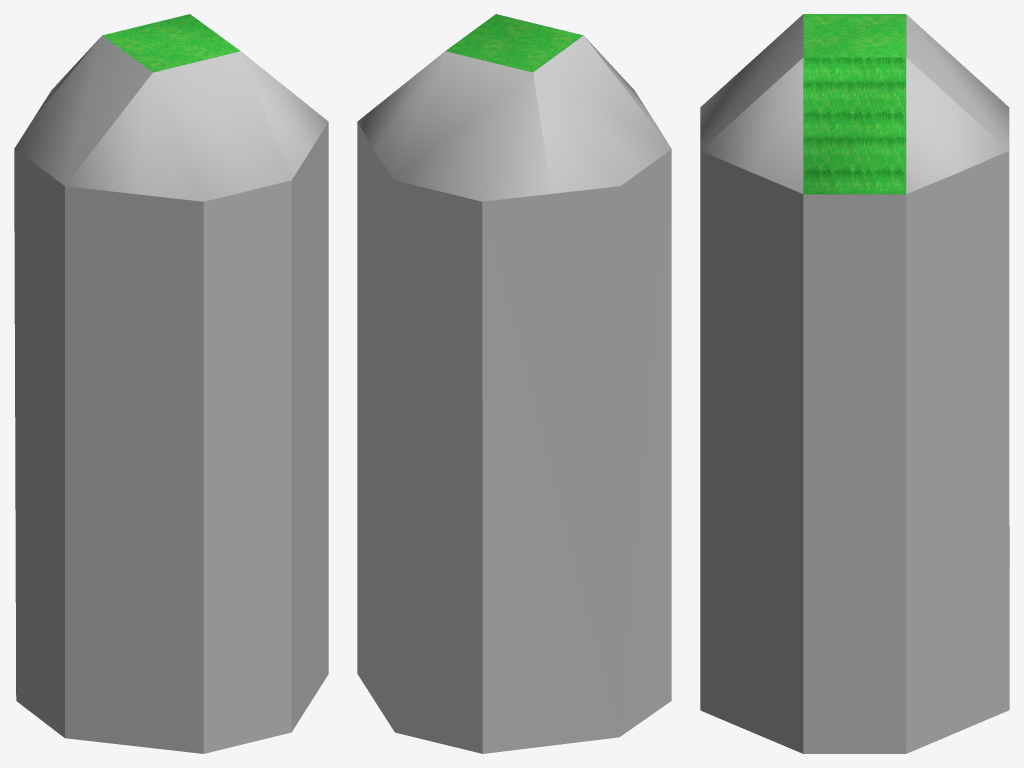
Rendered from allTerrain.dae.
3 renders of one model, left to right at view 1: azimuth 30°, elevation 25°; view 2: azimuth 150°, elevation 25°; view 3: azimuth 270°, elevation 25°, orthographic.
Parts seen in each view (by area): view 1: Cube.009; view 2: Cube.009; view 3: Cube.009.
Part boxes in pixels (left/top/right/bottom): Cube.009: left=14, top=14, right=328, bottom=753; Cube.009: left=357, top=14, right=671, bottom=753; Cube.009: left=700, top=14, right=1009, bottom=753.
Bounding box in the file's own units: 6 × 6.01 × 14.
